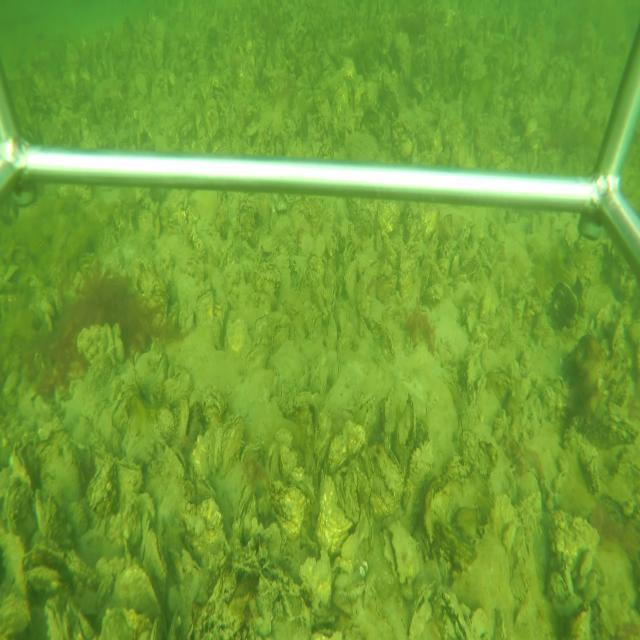Oyster-Closed: (113, 561, 164, 615), (219, 414, 248, 475), (141, 522, 167, 583), (395, 390, 415, 466), (241, 334, 271, 382), (405, 588, 432, 640), (382, 382, 400, 444), (344, 253, 360, 300), (266, 439, 283, 483), (324, 310, 339, 350), (339, 303, 349, 346), (325, 280, 338, 310)
Oyster-Indeterminate: (316, 473, 352, 552), (174, 396, 189, 440)
Oyster-Open: (384, 518, 425, 584), (20, 538, 66, 596), (156, 439, 187, 480)
